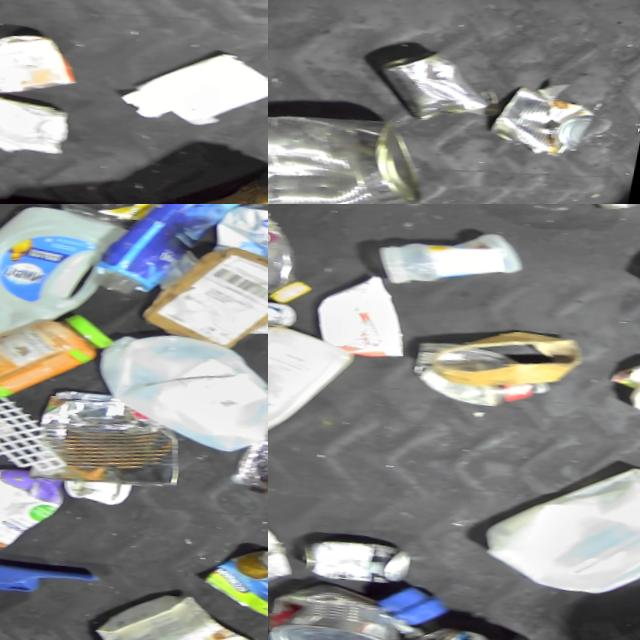can: (33, 383, 201, 496), (268, 100, 446, 204), (374, 45, 505, 133), (268, 574, 428, 640), (490, 84, 607, 165), (0, 26, 94, 103), (308, 532, 425, 591), (202, 540, 268, 628), (0, 93, 84, 160), (268, 283, 301, 334), (420, 624, 514, 640)
milk_jug: (481, 447, 640, 617), (88, 322, 268, 463), (0, 204, 123, 352), (268, 311, 365, 461), (95, 582, 268, 640)
non_white_jug: (0, 455, 74, 570), (268, 476, 313, 594)
plastic_bottle: (268, 204, 334, 311)
